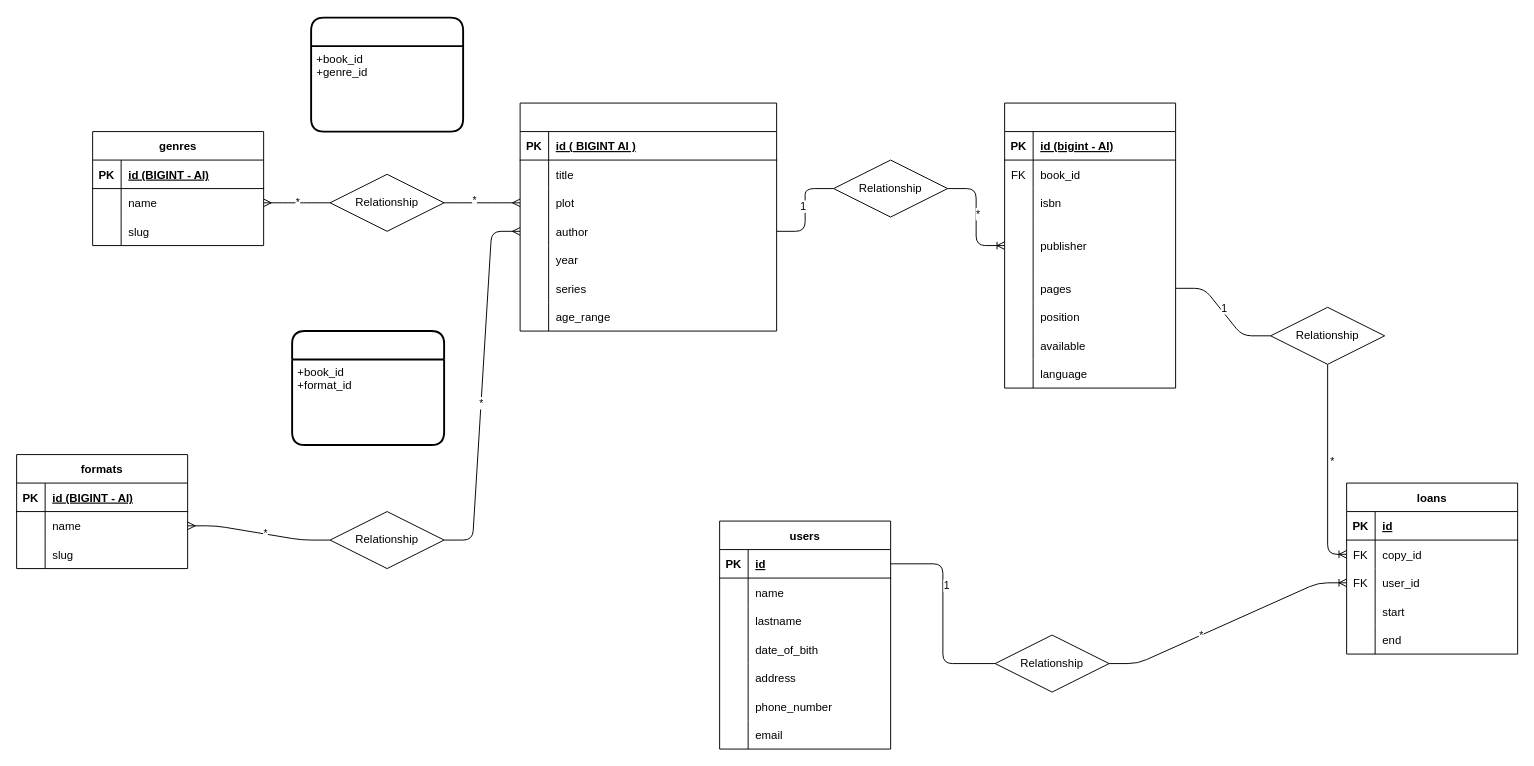
This 1534x766 diagram has some shape labels left out. Each missing label, with the box of its shape:
book_format: (291, 330, 445, 446)
book_grenre: (310, 16, 464, 132)
books: (519, 102, 777, 331)
copies: (1004, 102, 1176, 388)
